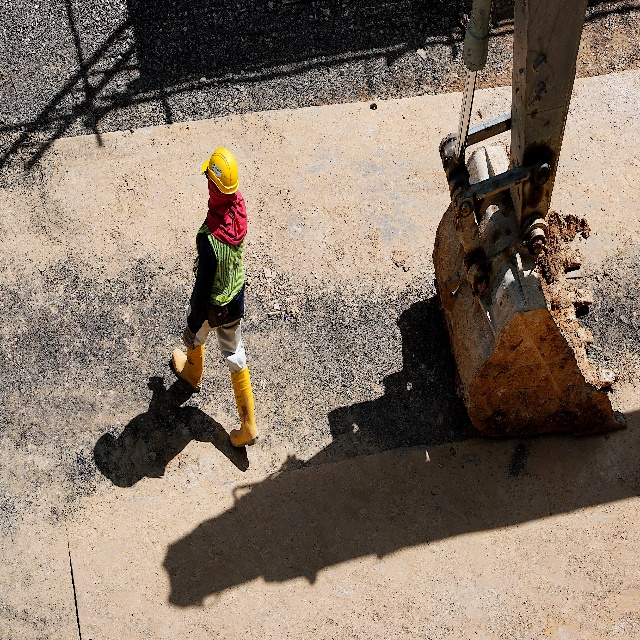Guantes: (182, 325, 196, 351)
